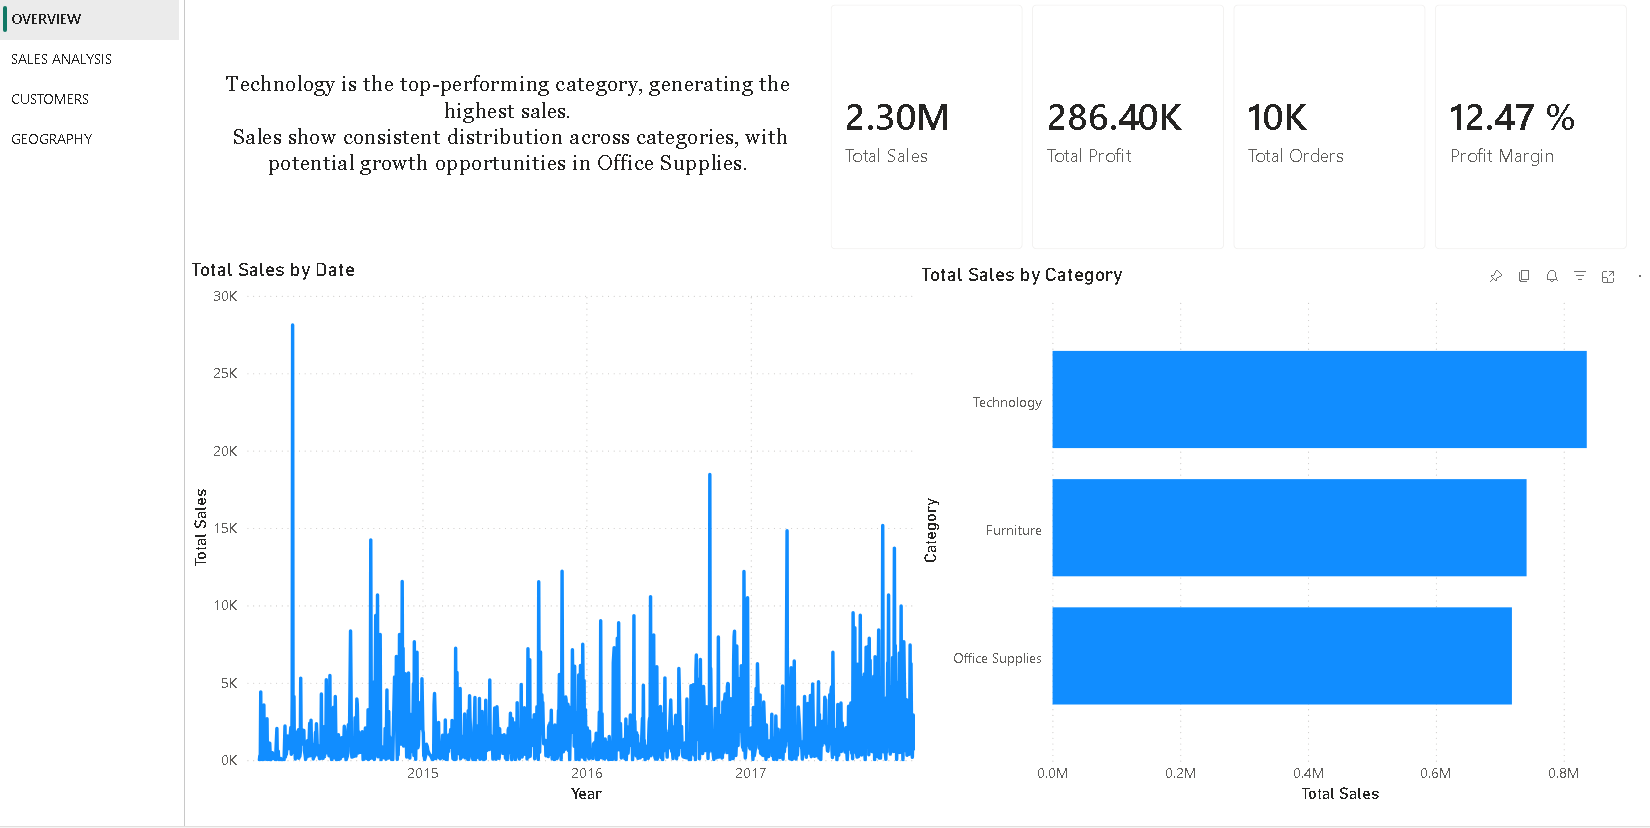

Layout of this report page (visuals, bound fields, positions):
{"tool":"powerbi","page":{"name":"OVERVIEW","canvas":[1280,720],"ordinal":0},"visuals":[{"type":"textbox","box":[0,1.2,564.4,277.4],"z":0},{"type":"cardVisual","fields":{"Data":["clean_superstore.Total Sales","clean_superstore.Total Profit","clean_superstore.Total Orders","clean_superstore.Profit Margin"]},"box":[546.5,0,732.3,248.9],"z":1000},{"type":"lineChart","title":"Total Sales by Date","fields":{"Y":["Sum(clean_superstore.Sales)"],"Category":["clean_superstore.Order Date.Variação.Date Hierarchy.Year","clean_superstore.Order Date.Variação.Date Hierarchy.Quarter","clean_superstore.Order Date.Variação.Date Hierarchy.Month","clean_superstore.Order Date.Variação.Date Hierarchy.Day"]},"box":[0,238.1,653.7,480.7],"z":2000},{"type":"clusteredBarChart","fields":{"Category":["clean_superstore.Category"],"Y":["Sum(clean_superstore.Sales)"]},"box":[638.2,242.9,640.6,476.3],"z":3000}]}

Visuals, with their boxes on the page's 1280x720 design canvas (x1, y1, x2, y2). These are canvas units, not pixel positions in the 1650x828 screenshot, which may show the page scaled, cropped or inside an application window:
textbox: [x1=0, y1=1, x2=564, y2=279]
cardVisual - clean_superstore.Total Sales x clean_superstore.Total Profit: [x1=546, y1=0, x2=1279, y2=249]
"Total Sales by Date" lineChart: [x1=0, y1=238, x2=654, y2=719]
clusteredBarChart - clean_superstore.Category x Sum(clean_superstore.Sales): [x1=638, y1=243, x2=1279, y2=719]
